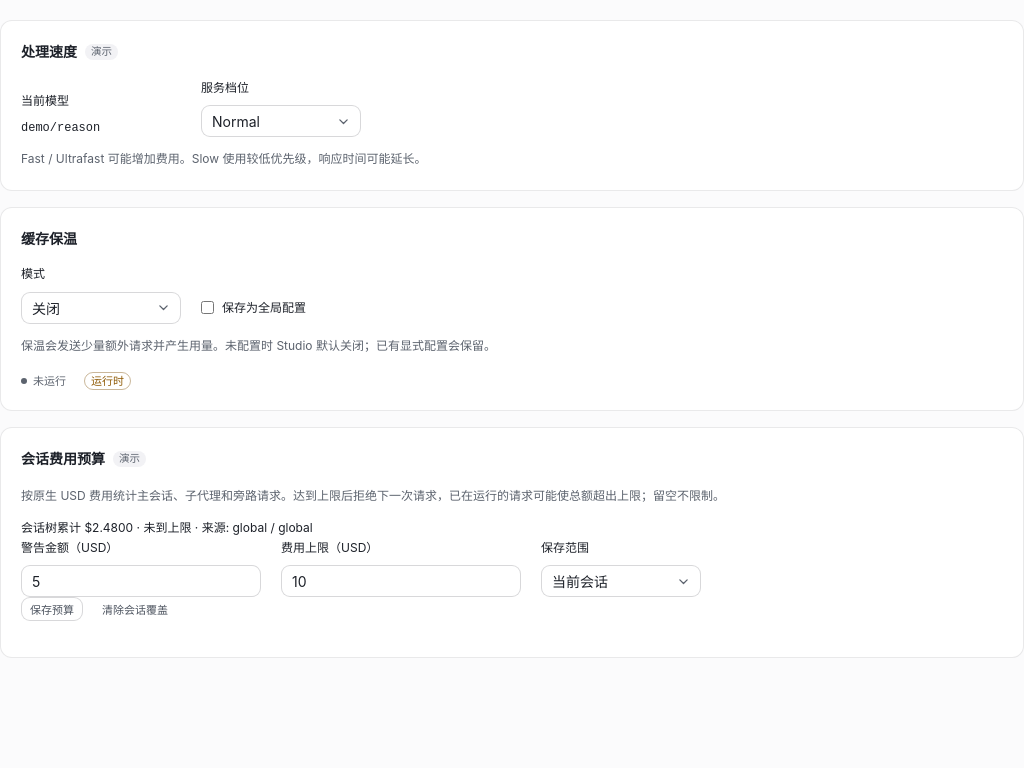
Scenario: previews speed and warming changes locally, and waits for confirmation before enabling requests
The width and height of the screenshot is (1024, 768).
Click the dropdown named "处理速度" at x=281, y=121, box [201,105,361,137]
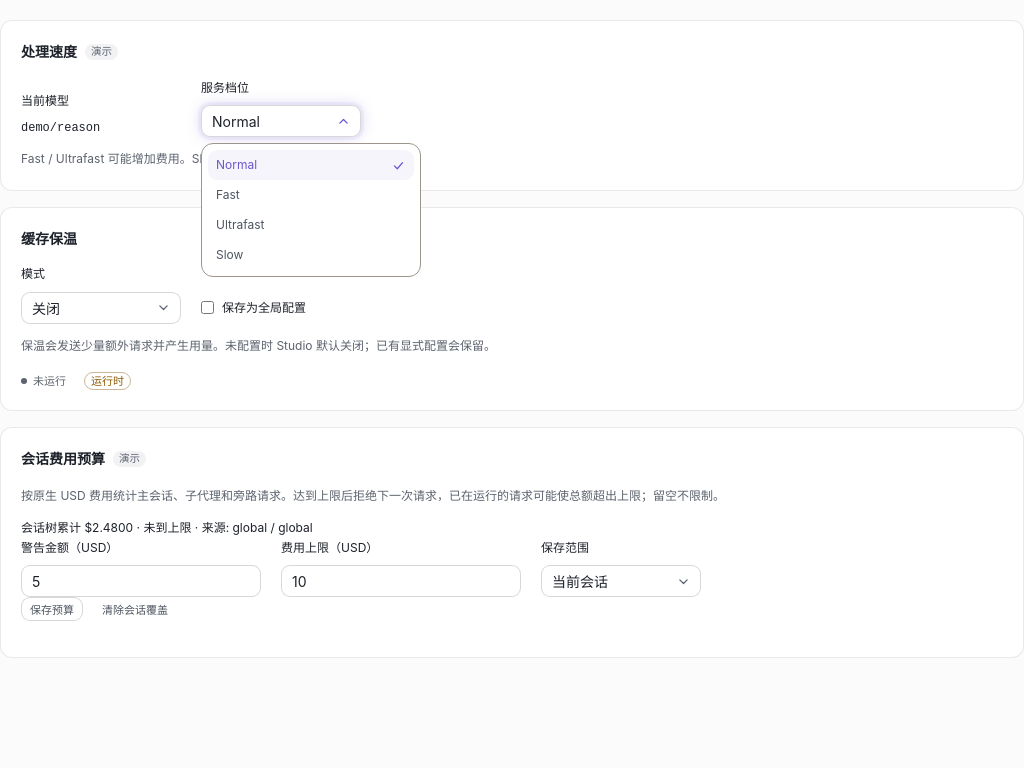
Click the option "Ultrafast" at x=311, y=225, box [208,210,414,240]
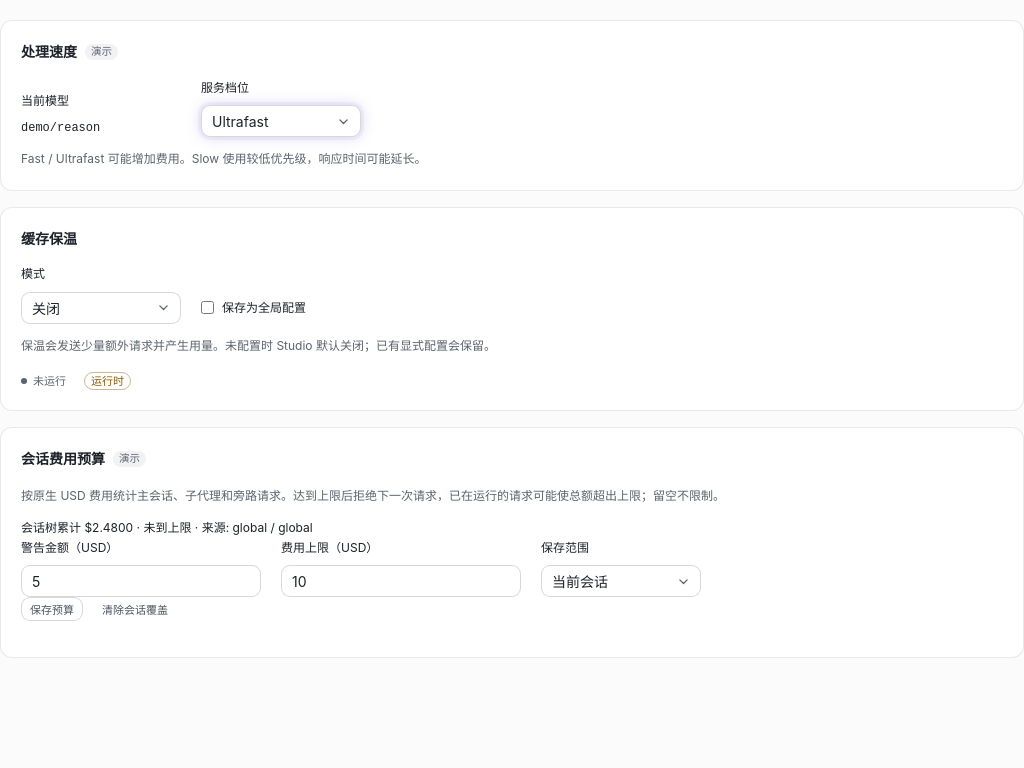
Now the dropdown named "处理速度" reads "Ultrafast", box [201,105,361,137]
Click the dropdown named "缓存保温模式" at x=101, y=308, box [21,292,181,324]
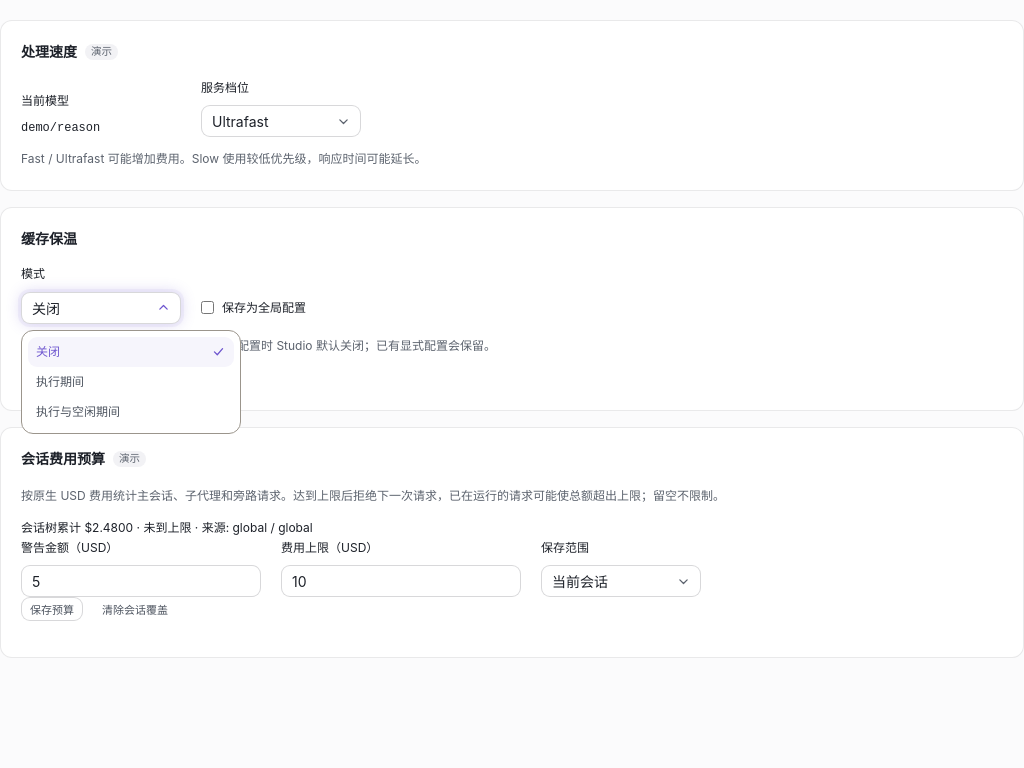
Click the option "执行与空闲期间" at x=131, y=412, box [28,397,234,427]
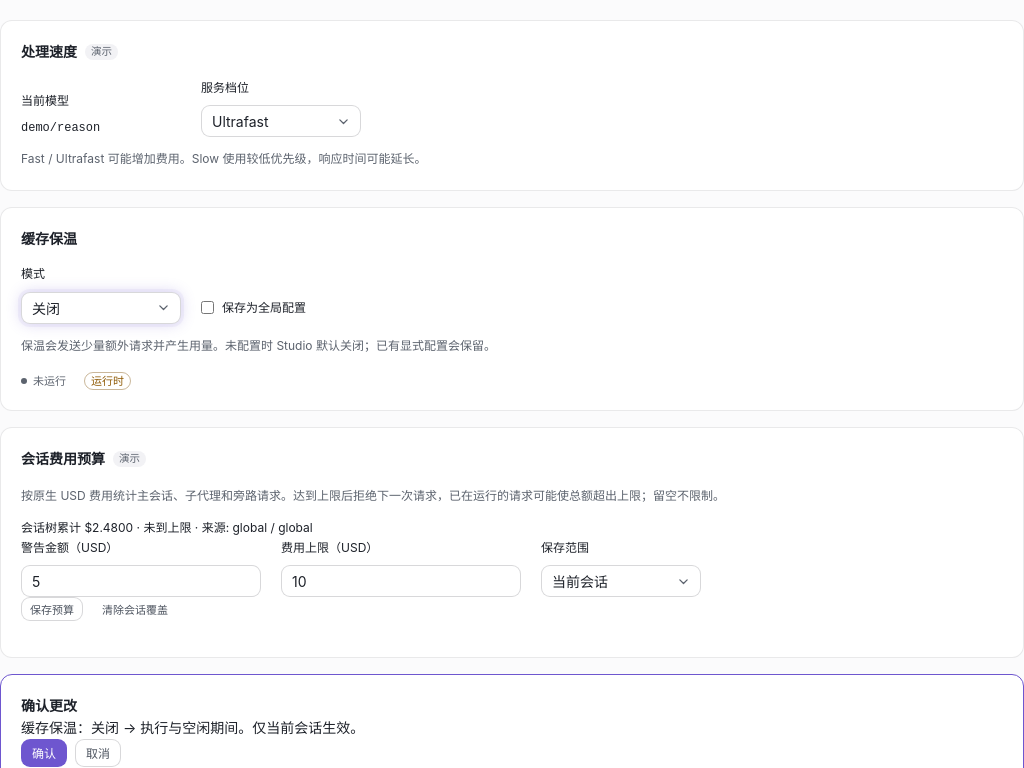
Expected: the dropdown named "缓存保温模式" reads "关闭", [21,292,181,324]
Click the button "确认" at x=44, y=753, box [21,739,67,767]
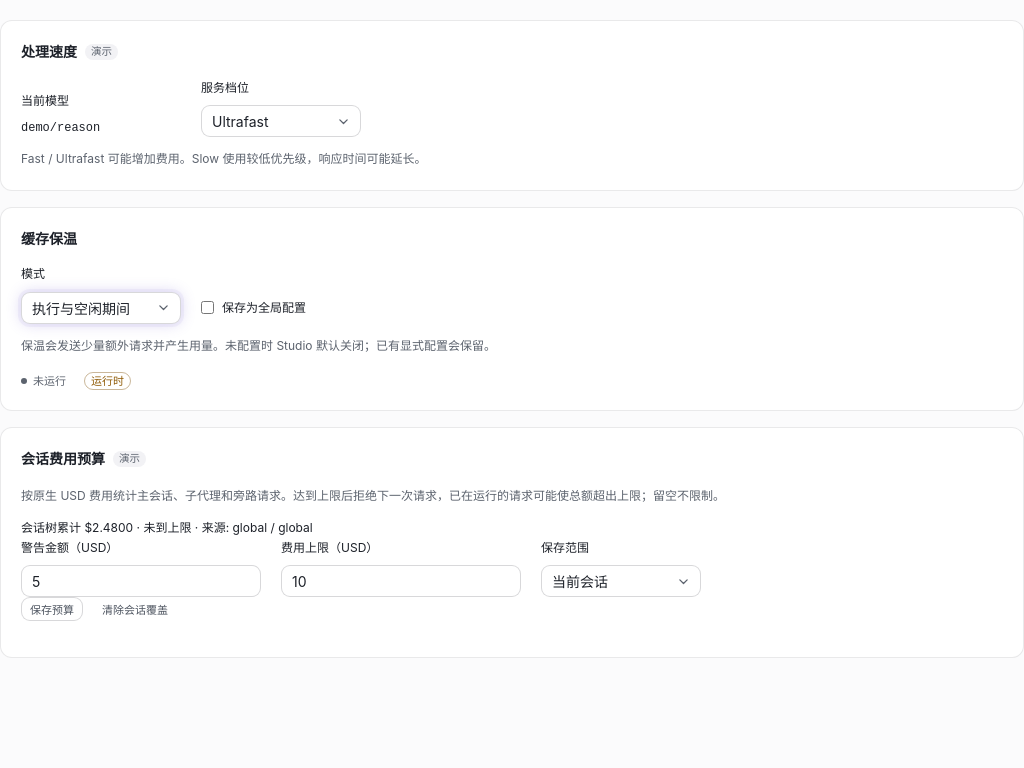
Now the dropdown named "缓存保温模式" reads "执行与空闲期间", box [21,292,181,324]
